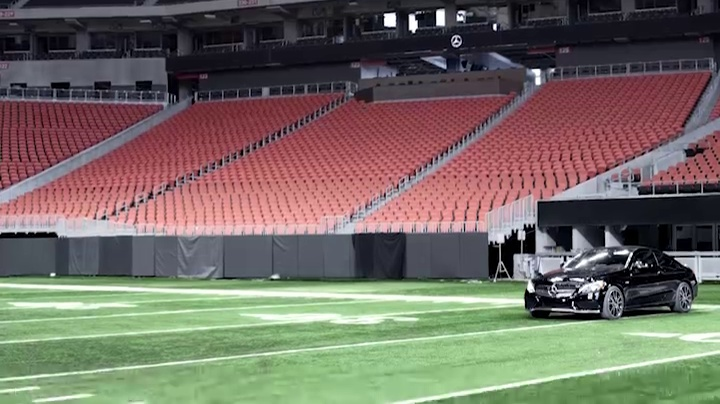amg: (523, 245, 702, 323)
